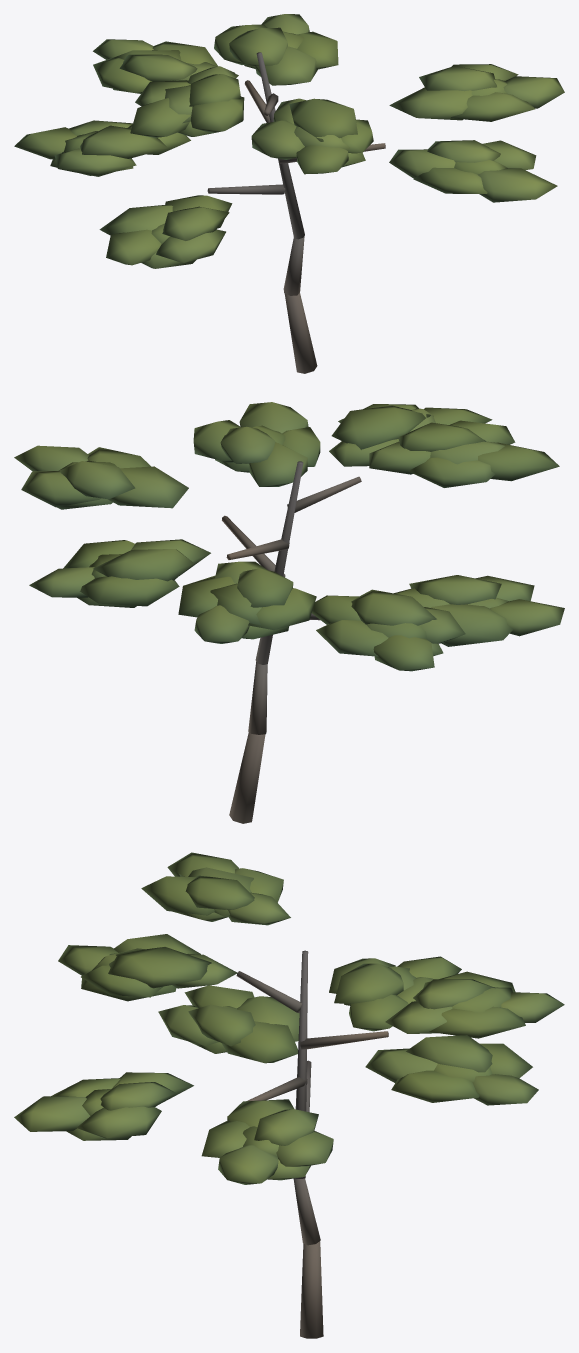
Rendered from HK_Tree_Pine.lod.glb.
3 views of the same model, one above another, from view 1: azimuth 30°, elevation 25°; view 2: azimuth 150°, elevation 25°; view 3: azimuth 270°, elevation 25° (orthographic). The views are drawn at different scales.
Parts seen in each view (by area): view 1: HK_Tree_Pine; view 2: HK_Tree_Pine; view 3: HK_Tree_Pine.
Part boxes in pixels (<box>): HK_Tree_Pine: <box>14,14,564,373</box>; HK_Tree_Pine: <box>14,402,564,823</box>; HK_Tree_Pine: <box>14,852,564,1338</box>.
Bounding box in the file's own units: 8.65 × 6.14 × 8.06.
